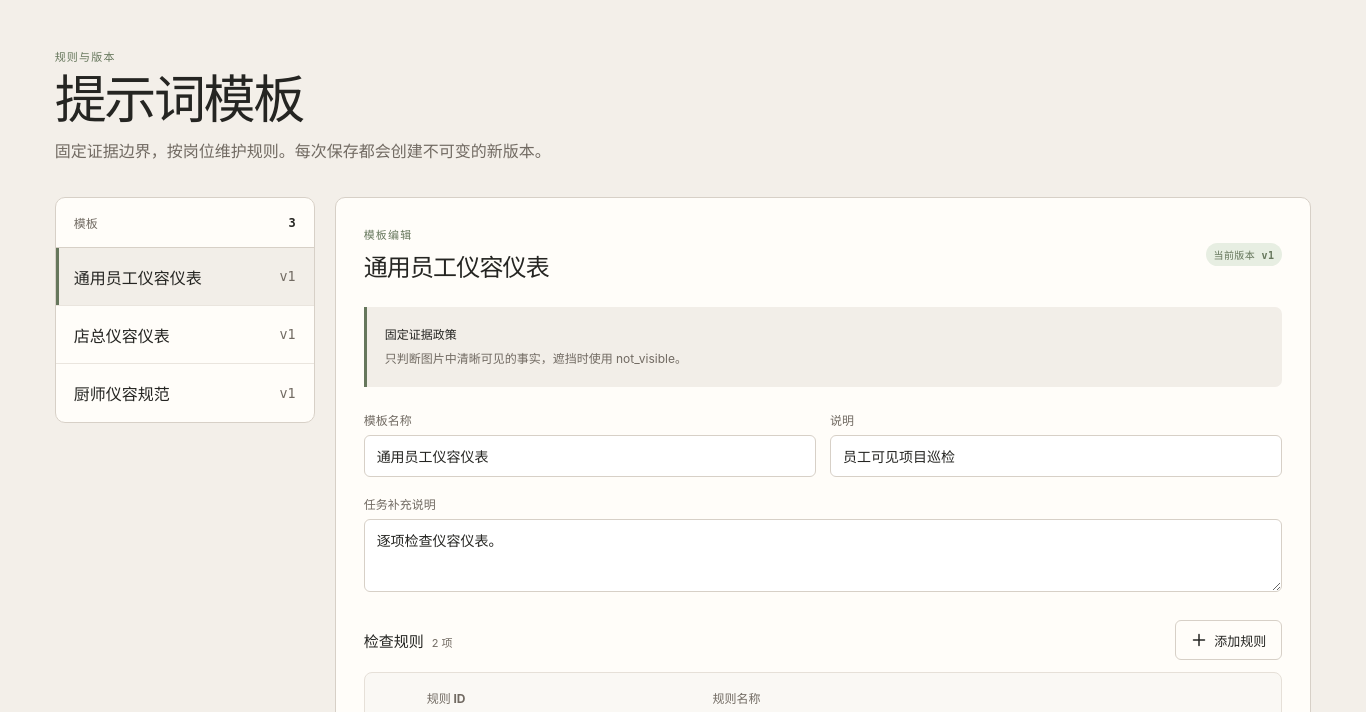
Test: saving an edited template displays the new version
Click the button "通用员工仪容仪表 v1".
click(185, 277)  # box [56, 248, 314, 306]
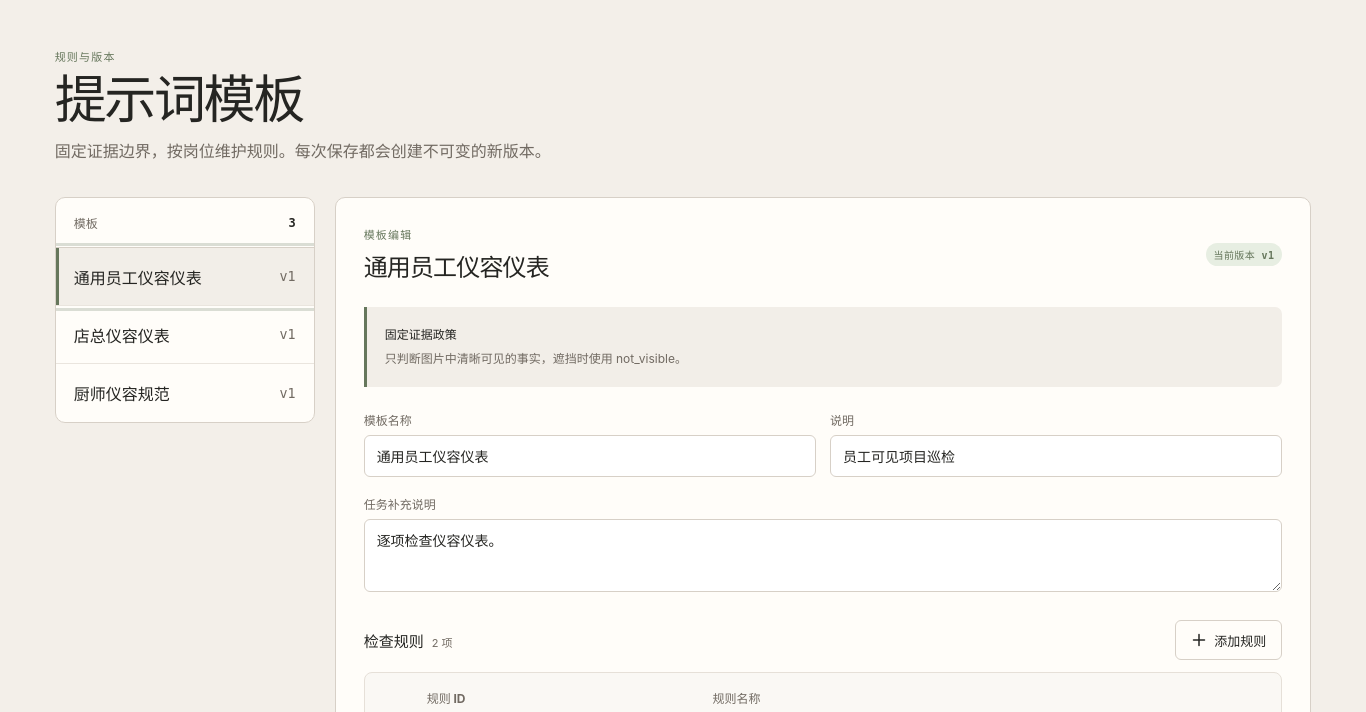
Type " 重点检查工牌" into the text box labelled "任务补充说明".
click(823, 556); type(" 重点检查工牌")  # box [364, 519, 1282, 592]
(page scrolled)
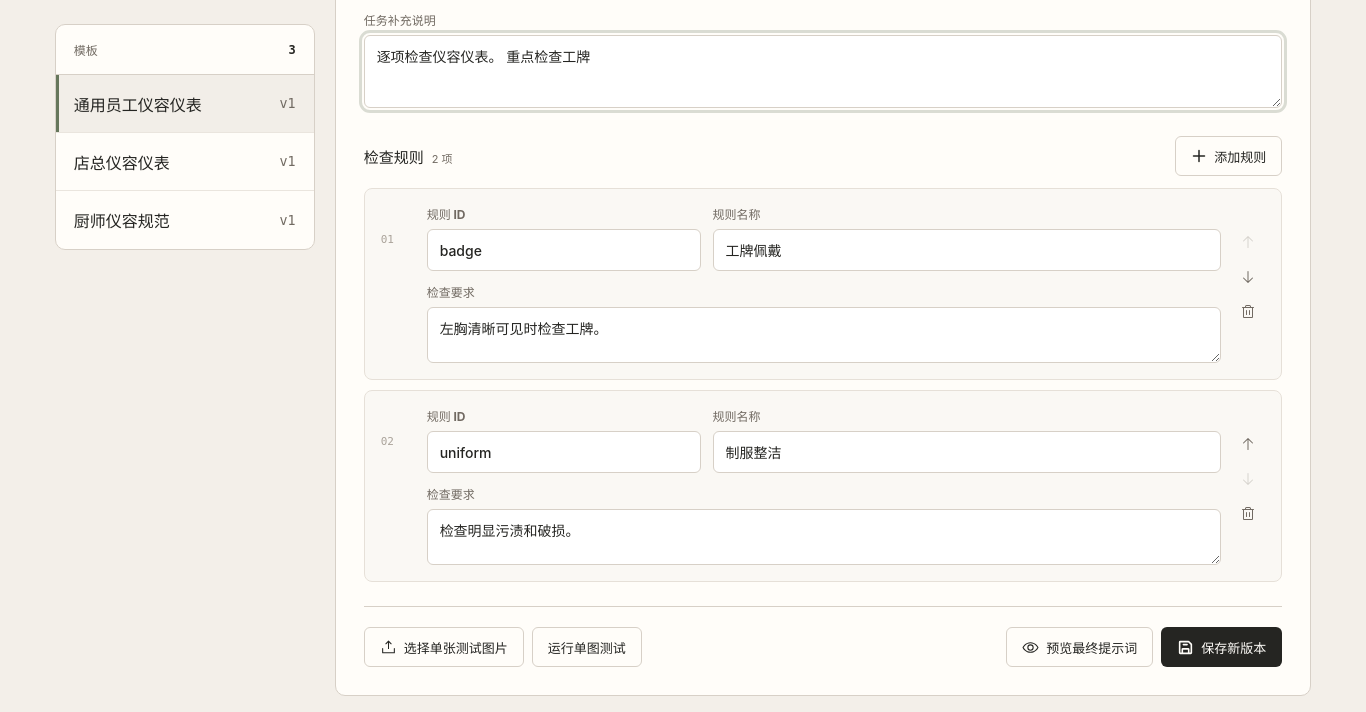
Click the button "保存新版本".
click(1222, 647)  # box [1161, 627, 1282, 667]
(page scrolled)
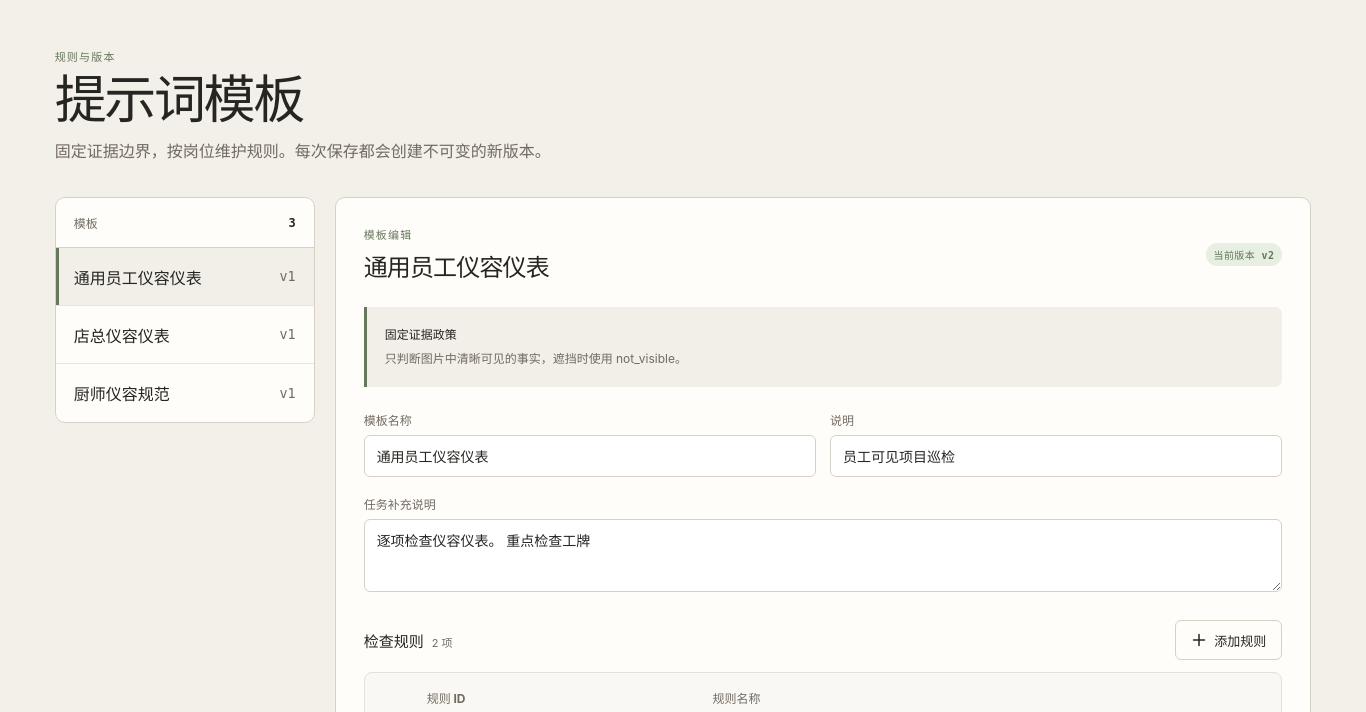
Result: the text "当前版本 v2" is shown at [1206, 243, 1282, 266]
